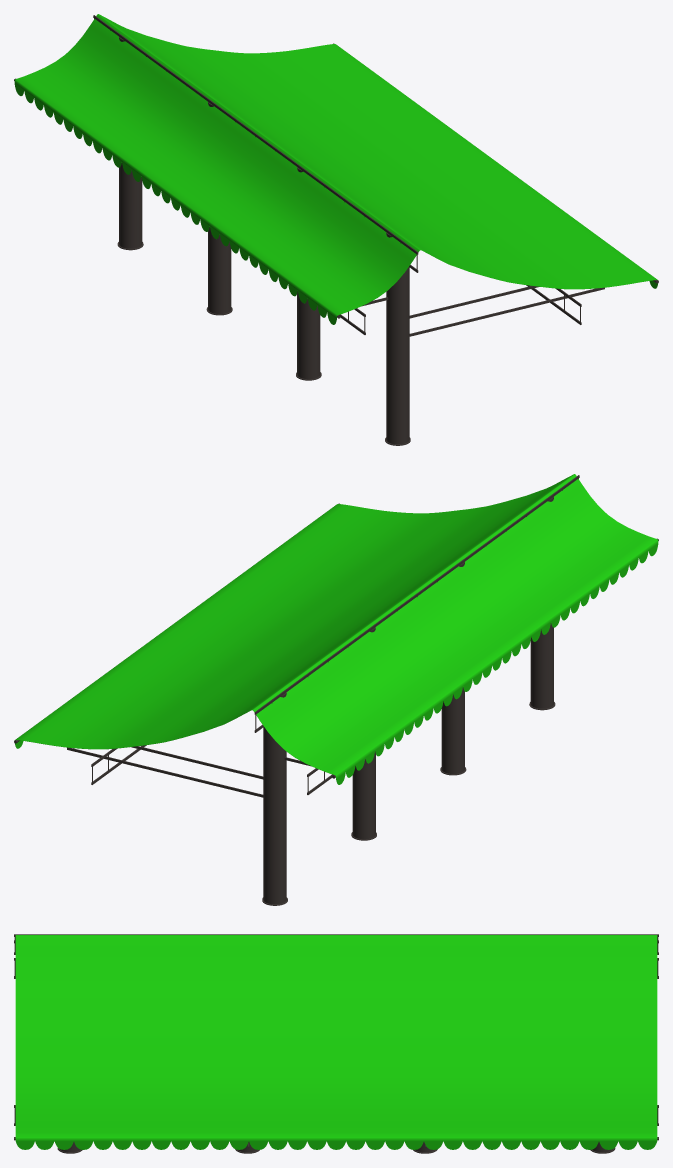
The model's file is uploads_files_2092925_canopy02.FBX.
3 views of the same model, one above another, from view 1: azimuth 30°, elevation 25°; view 2: azimuth 150°, elevation 25°; view 3: azimuth 270°, elevation 25° (orthographic).
Parts seen in each view (by area): view 1: tent, column04, column02, column03, column01, Box02, Box22; view 2: tent, column01, column03, column04, column02, Box02, Box10; view 3: tent, Box02.
Part boxes in pixels (left/top/right/bottom): tent: left=14, top=14, right=658, bottom=324; column04: left=386, top=232, right=409, bottom=444; column02: left=208, top=102, right=231, bottom=313; column03: left=297, top=167, right=320, bottom=379; column01: left=119, top=37, right=142, bottom=248; Box02: left=93, top=15, right=418, bottom=254; Box22: left=409, top=287, right=604, bottom=336; tent: left=14, top=474, right=658, bottom=784; column01: left=263, top=692, right=286, bottom=904; column03: left=441, top=562, right=464, bottom=773; column04: left=530, top=497, right=553, bottom=708; column02: left=352, top=627, right=375, bottom=839; Box02: left=254, top=475, right=579, bottom=714; Box10: left=67, top=747, right=263, bottom=797; tent: left=15, top=935, right=657, bottom=1149; Box02: left=14, top=934, right=658, bottom=936.
Size of the model in its own units: 11.46 by 7.21 by 20.
